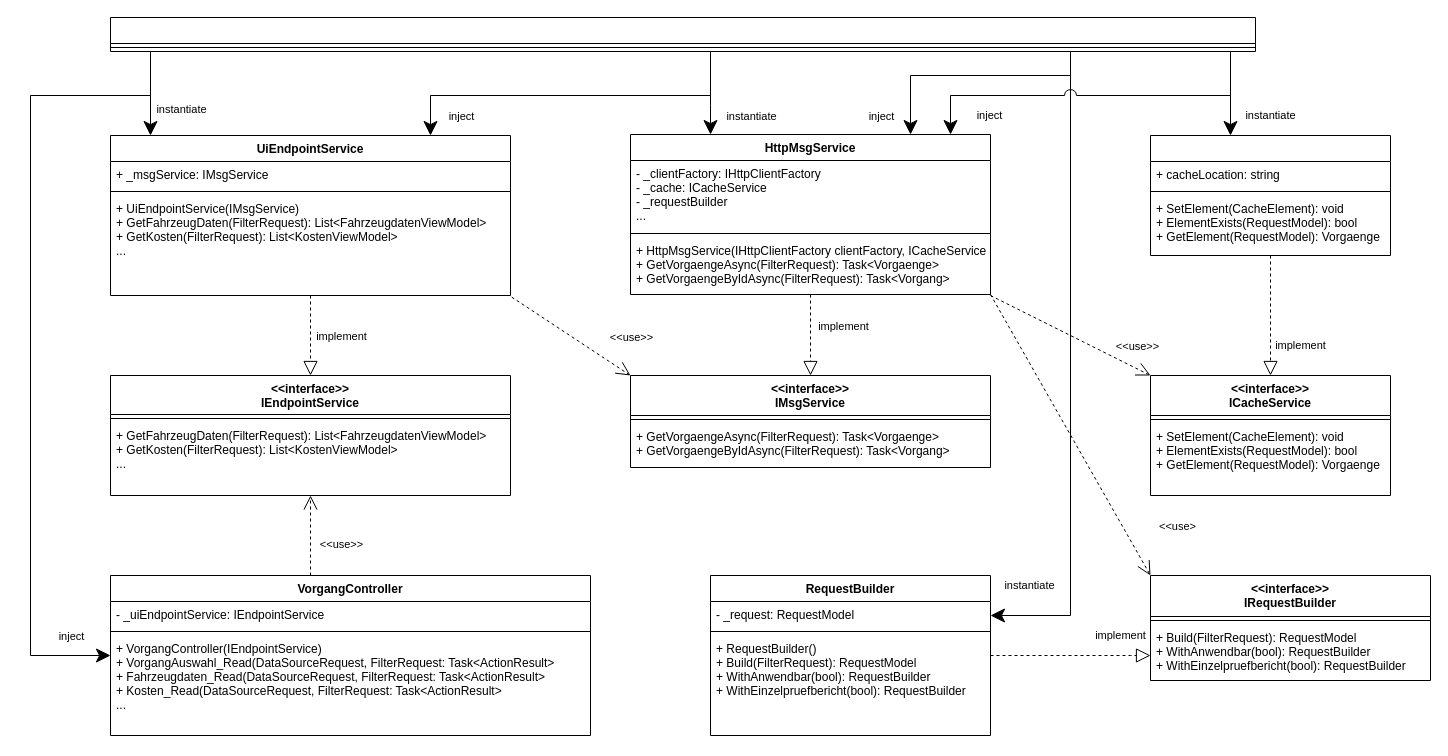
Some shapes in this 1448 by 756 pixel diagram are drawn without their labels. The box of each missing label's shape, as (x1, y1, x2, y2) in pixels:
Framework Injector: (110, 16, 1256, 52)
ResponseCacheService: (1150, 134, 1390, 256)
